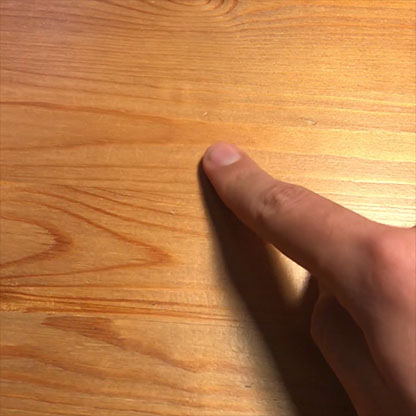fingertip: (197, 136, 250, 176)
